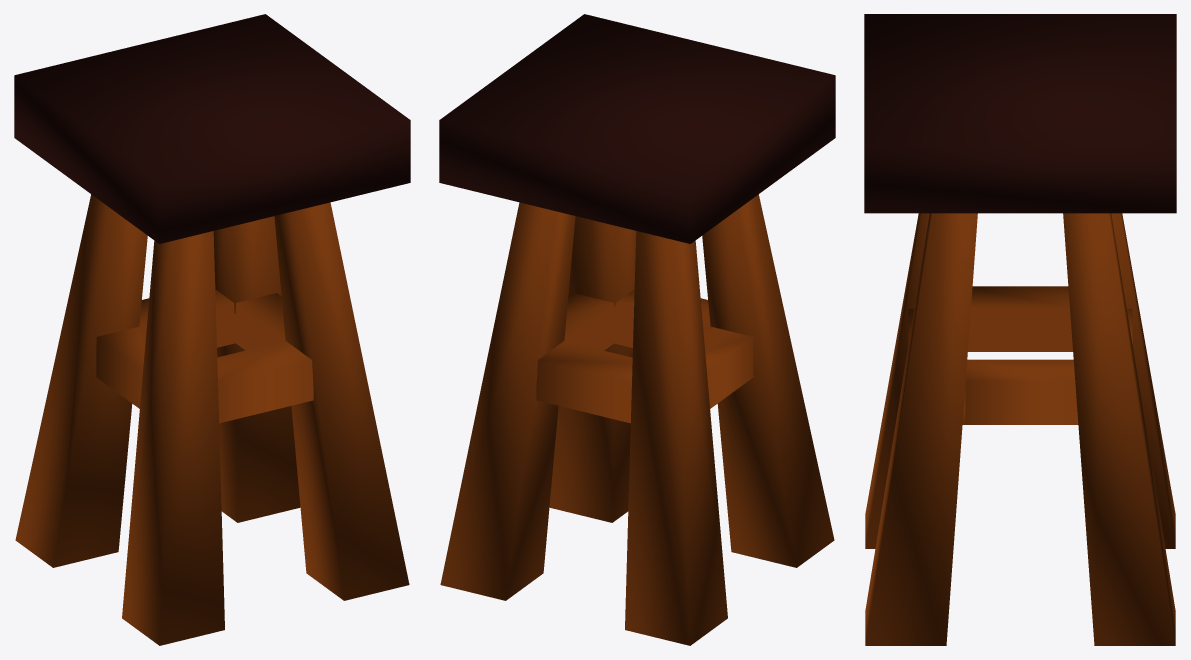
Rendered from cadeirinha.fbx.
3 renders of one model, left to right at view 1: azimuth 30°, elevation 25°; view 2: azimuth 150°, elevation 25°; view 3: azimuth 270°, elevation 25°, orthographic. The views are drawn at different scales.
Parts seen in each view (by area): view 1: Plane.003, Plane.002, Plane.004; view 2: Plane.003, Plane.002, Plane.004; view 3: Plane.003, Plane.002, Plane.004.
Boxes of the visible parts, x1,y1,x2,y2 form: Plane.003: (15,194,409,645); Plane.002: (14,14,410,243); Plane.004: (95,289,313,423); Plane.003: (440,194,834,645); Plane.002: (439,14,835,243); Plane.004: (536,289,754,423); Plane.003: (865,213,1175,645); Plane.002: (864,14,1176,213); Plane.004: (908,286,1132,424).
Bounding box in the file's own units: 40.14 × 71.01 × 40.14.
